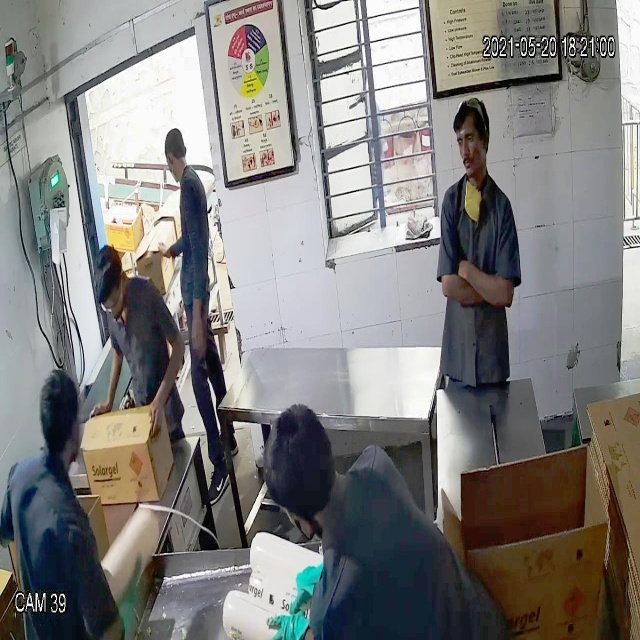Sin_gafas: (452, 124, 484, 152)
